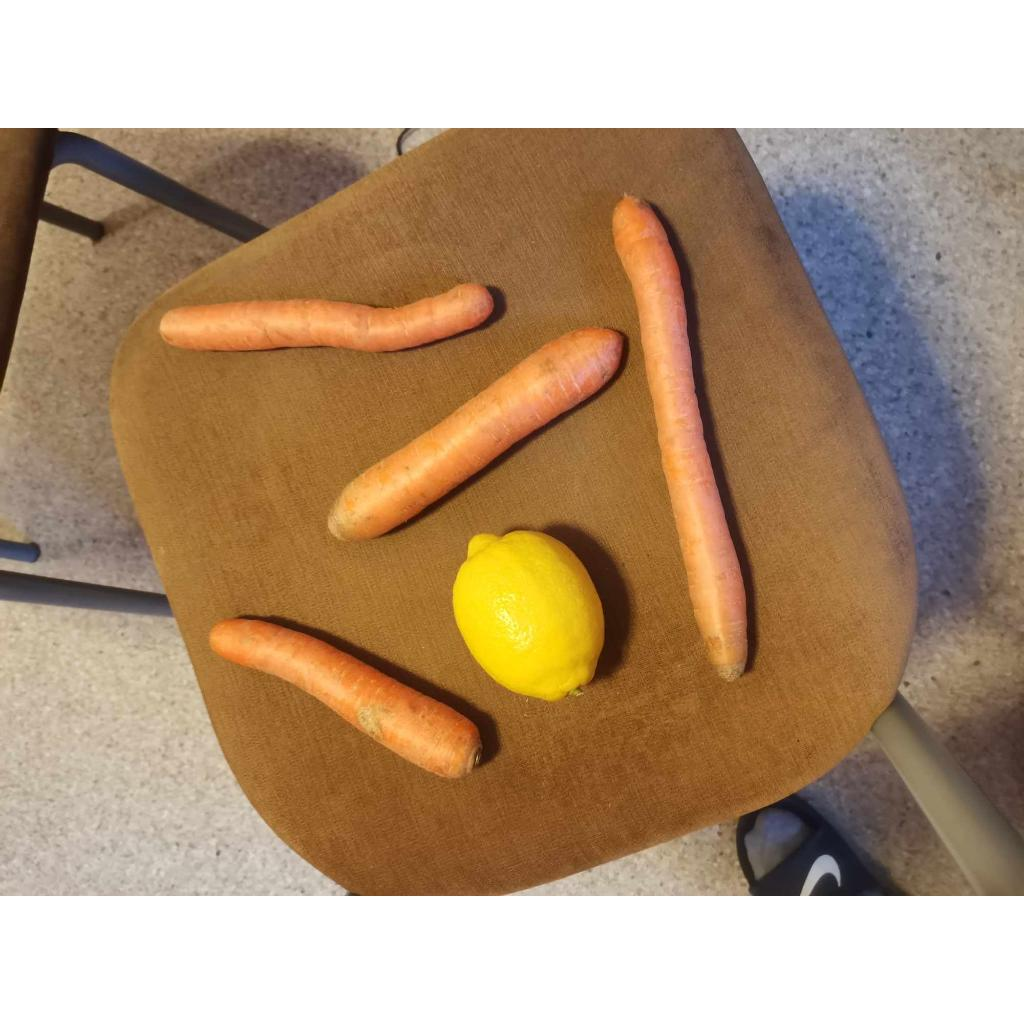carrot: (612, 196, 748, 680), (328, 328, 622, 540), (210, 618, 482, 778), (160, 284, 494, 352)
lemon: (454, 530, 604, 700)
